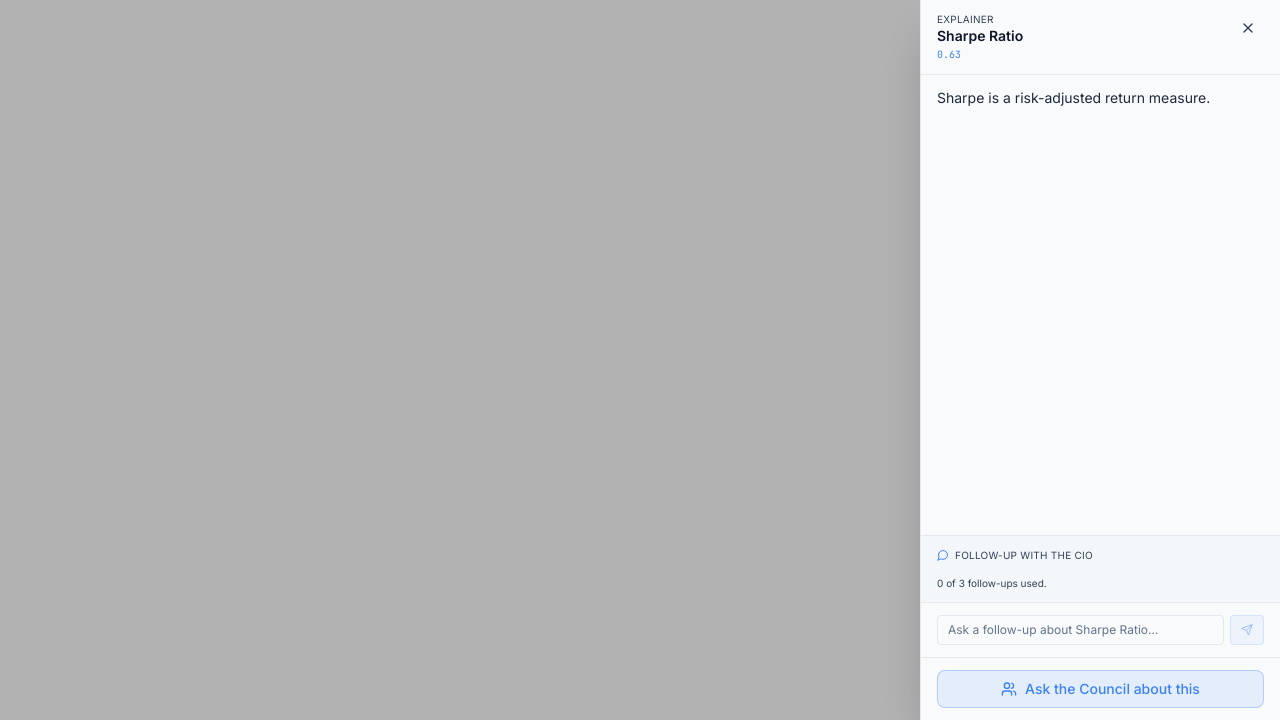
ExplainerPanel — CIO follow-up thread › POSTs the follow-up with thread + topic context and appends CIO reply
Type a follow-up question.
Type "How does it compare to Sortino?" into the field with test id "explainer-followup-input" at (1080, 630), box [937,615,1224,645]
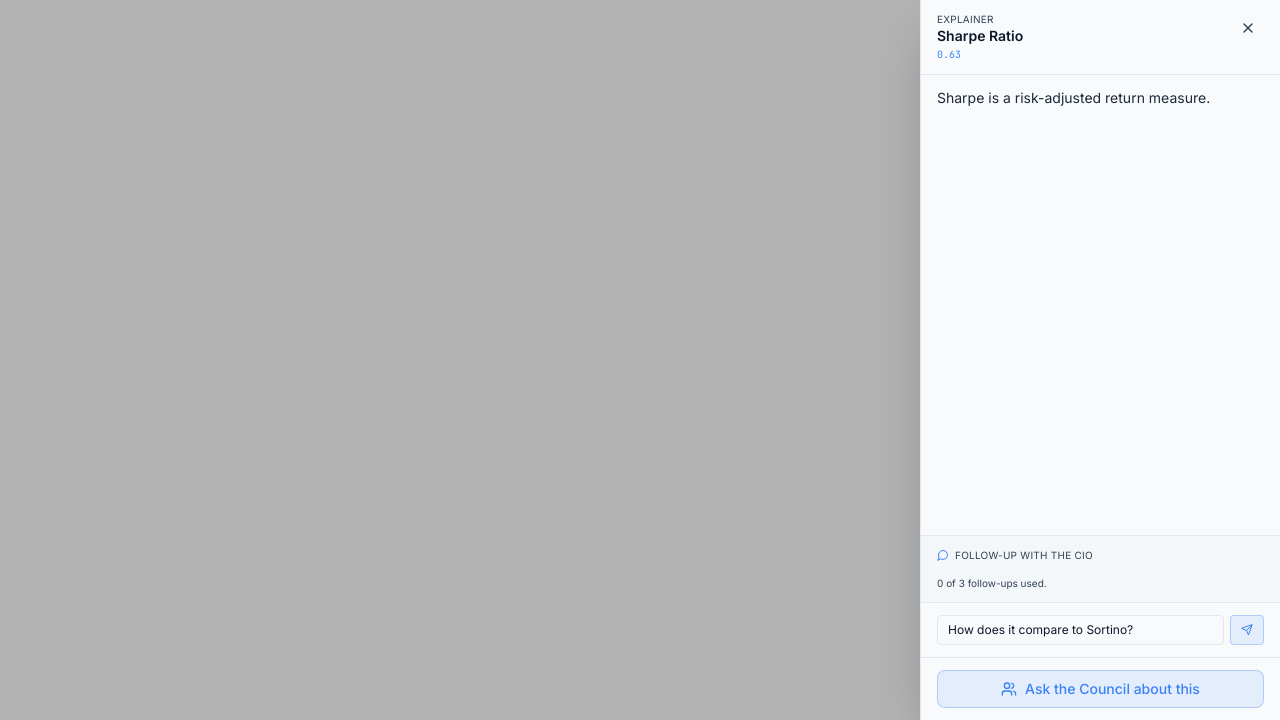
Click the button with test id "explainer-followup-submit" at (1247, 630), box [1230,615,1264,645]
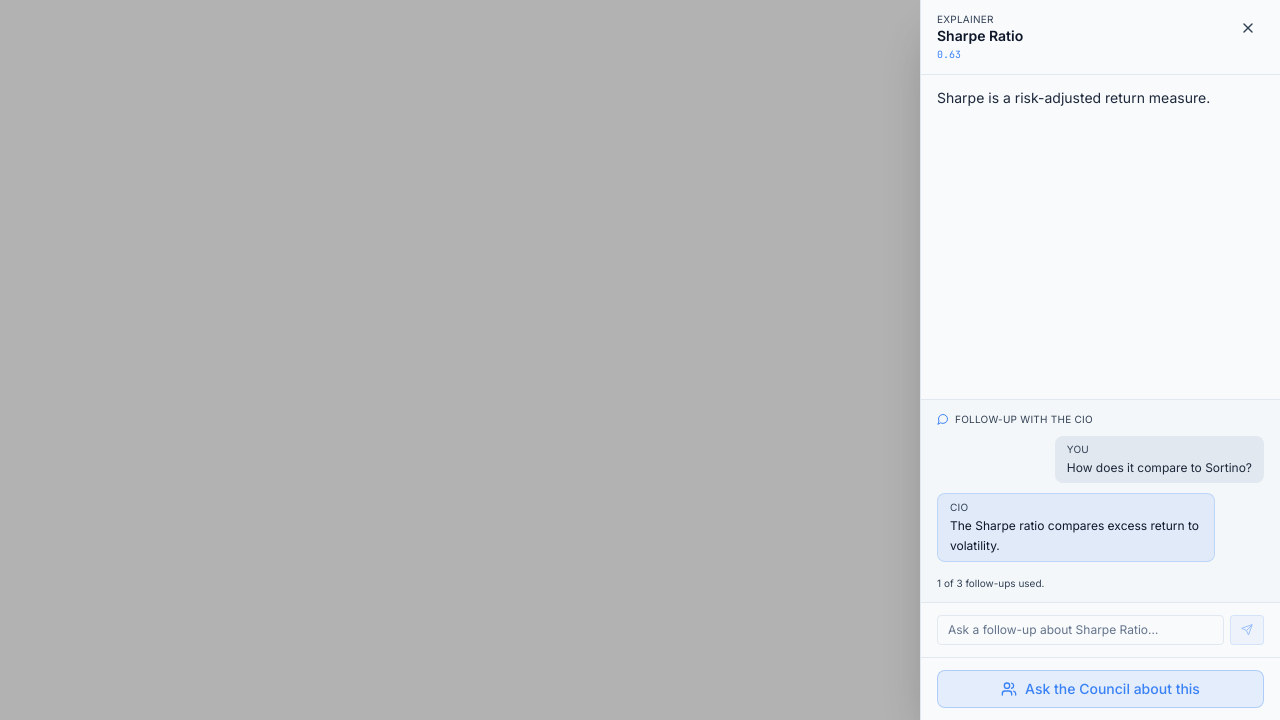
Expected: the text "Sharpe is a risk-adjusted return measure." is shown, [937,89,1210,106]
Expected: the text "How does it compare to Sortino?" is shown, [1067,458,1252,477]
Expected: the text "1 of 3 follow-ups used." is shown, [937,577,1044,589]
